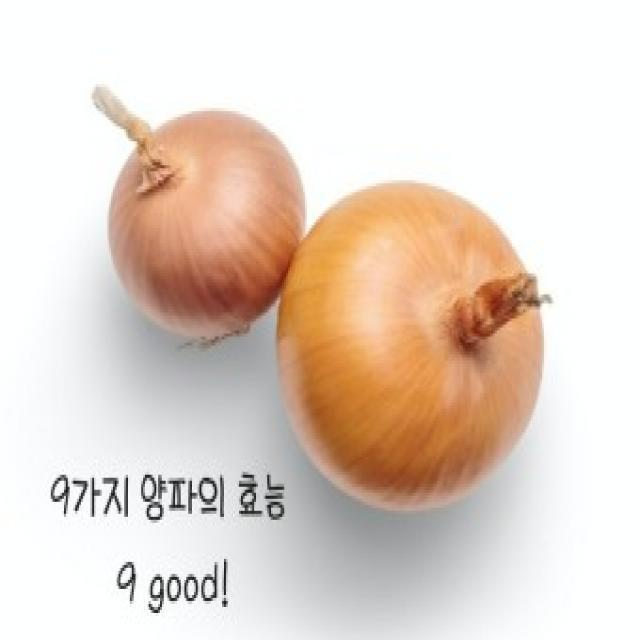onion: (275, 181, 547, 517), (90, 85, 307, 347)
